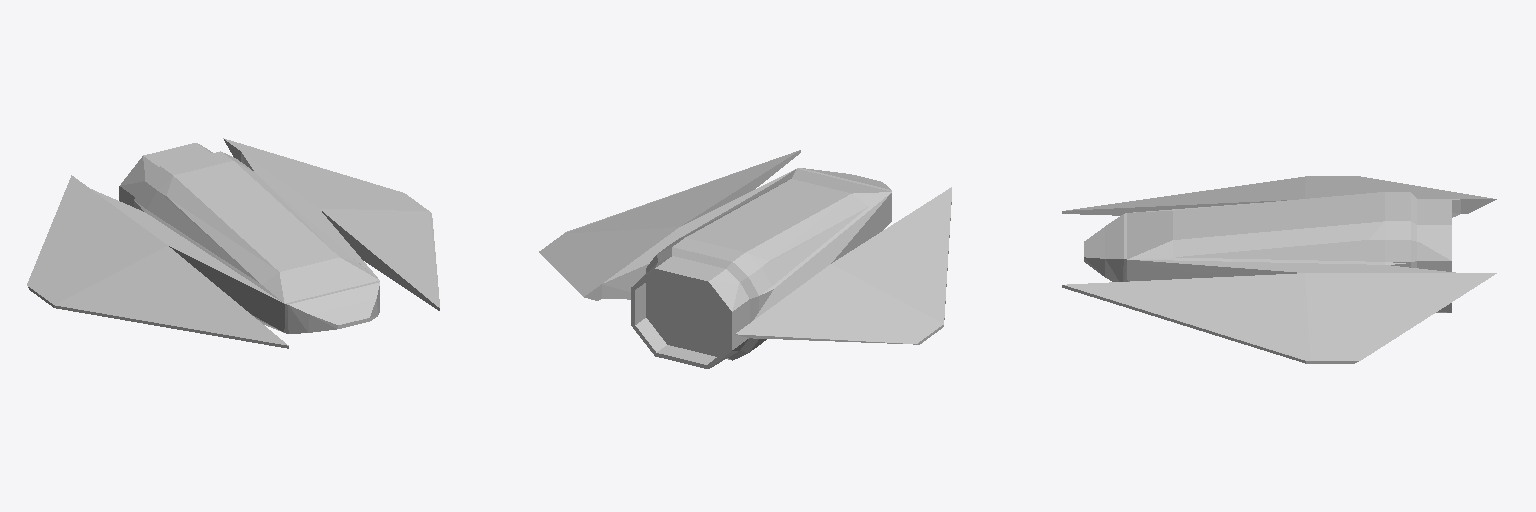
File: Player_Ship_Mark_2.obj
3 renders of one model, left to right at view 1: azimuth 30°, elevation 25°; view 2: azimuth 150°, elevation 25°; view 3: azimuth 270°, elevation 25°, orthographic.
Parts seen in each view (by area): view 1: PlayerShip_V2; view 2: PlayerShip_V2; view 3: PlayerShip_V2.
Boxes of the visible parts, x1=… form: PlayerShip_V2: x1=27, y1=138, x2=439, y2=348; PlayerShip_V2: x1=539, y1=150, x2=951, y2=368; PlayerShip_V2: x1=1062, y1=176, x2=1496, y2=363.
Bounding box in the file's own units: 39.37 × 9.84 × 39.28.